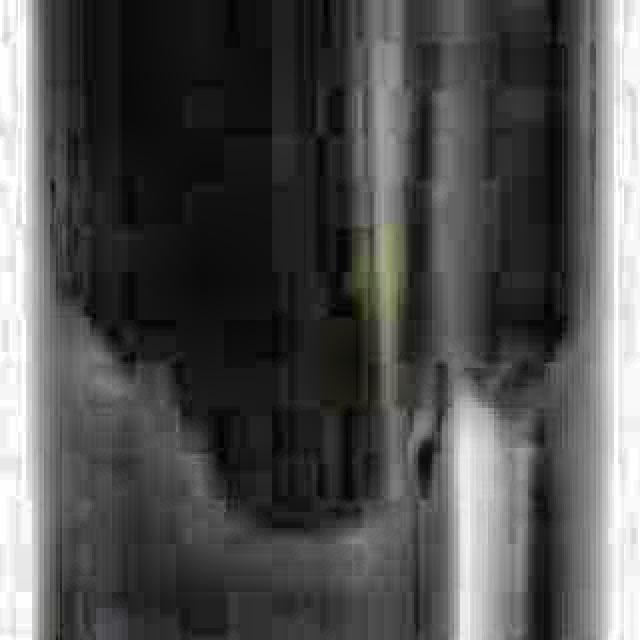metal: (30, 0, 604, 640)
